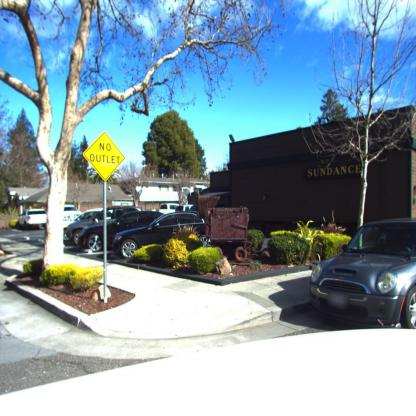car: (307, 219, 415, 330), (62, 207, 164, 256), (114, 212, 206, 259), (16, 206, 53, 230)
